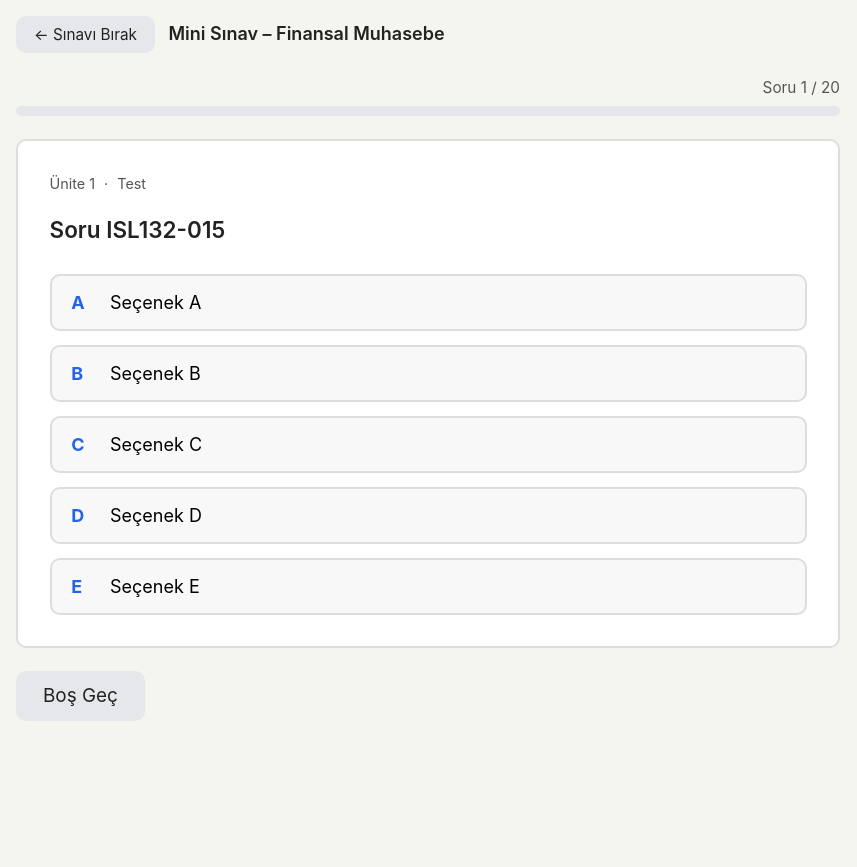
Test case: MiniSinav — yeterli soru senaryosu › seçenek tıklanınca açıklama görünür
The width and height of the screenshot is (857, 867).
Click the button "A Seçenek A" at {"x": 156, "y": 303}, box [50, 274, 806, 332]
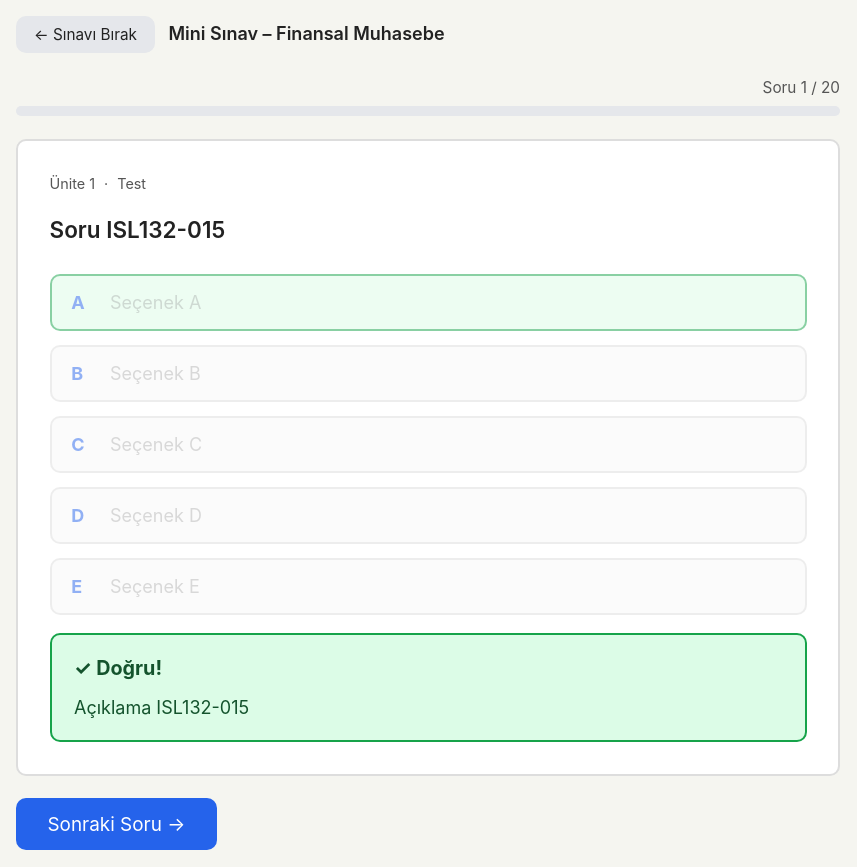
Check: the text "Açıklama ISL132-015" is shown, box [74, 697, 249, 718]
